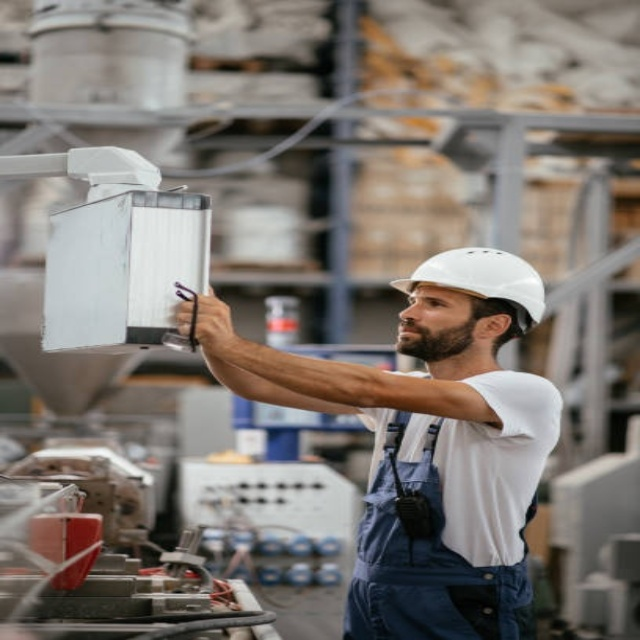Sin_gafas: (408, 290, 460, 318)
Sin_guantes: (173, 288, 238, 343)
Sin_mascara: (395, 322, 436, 349)
